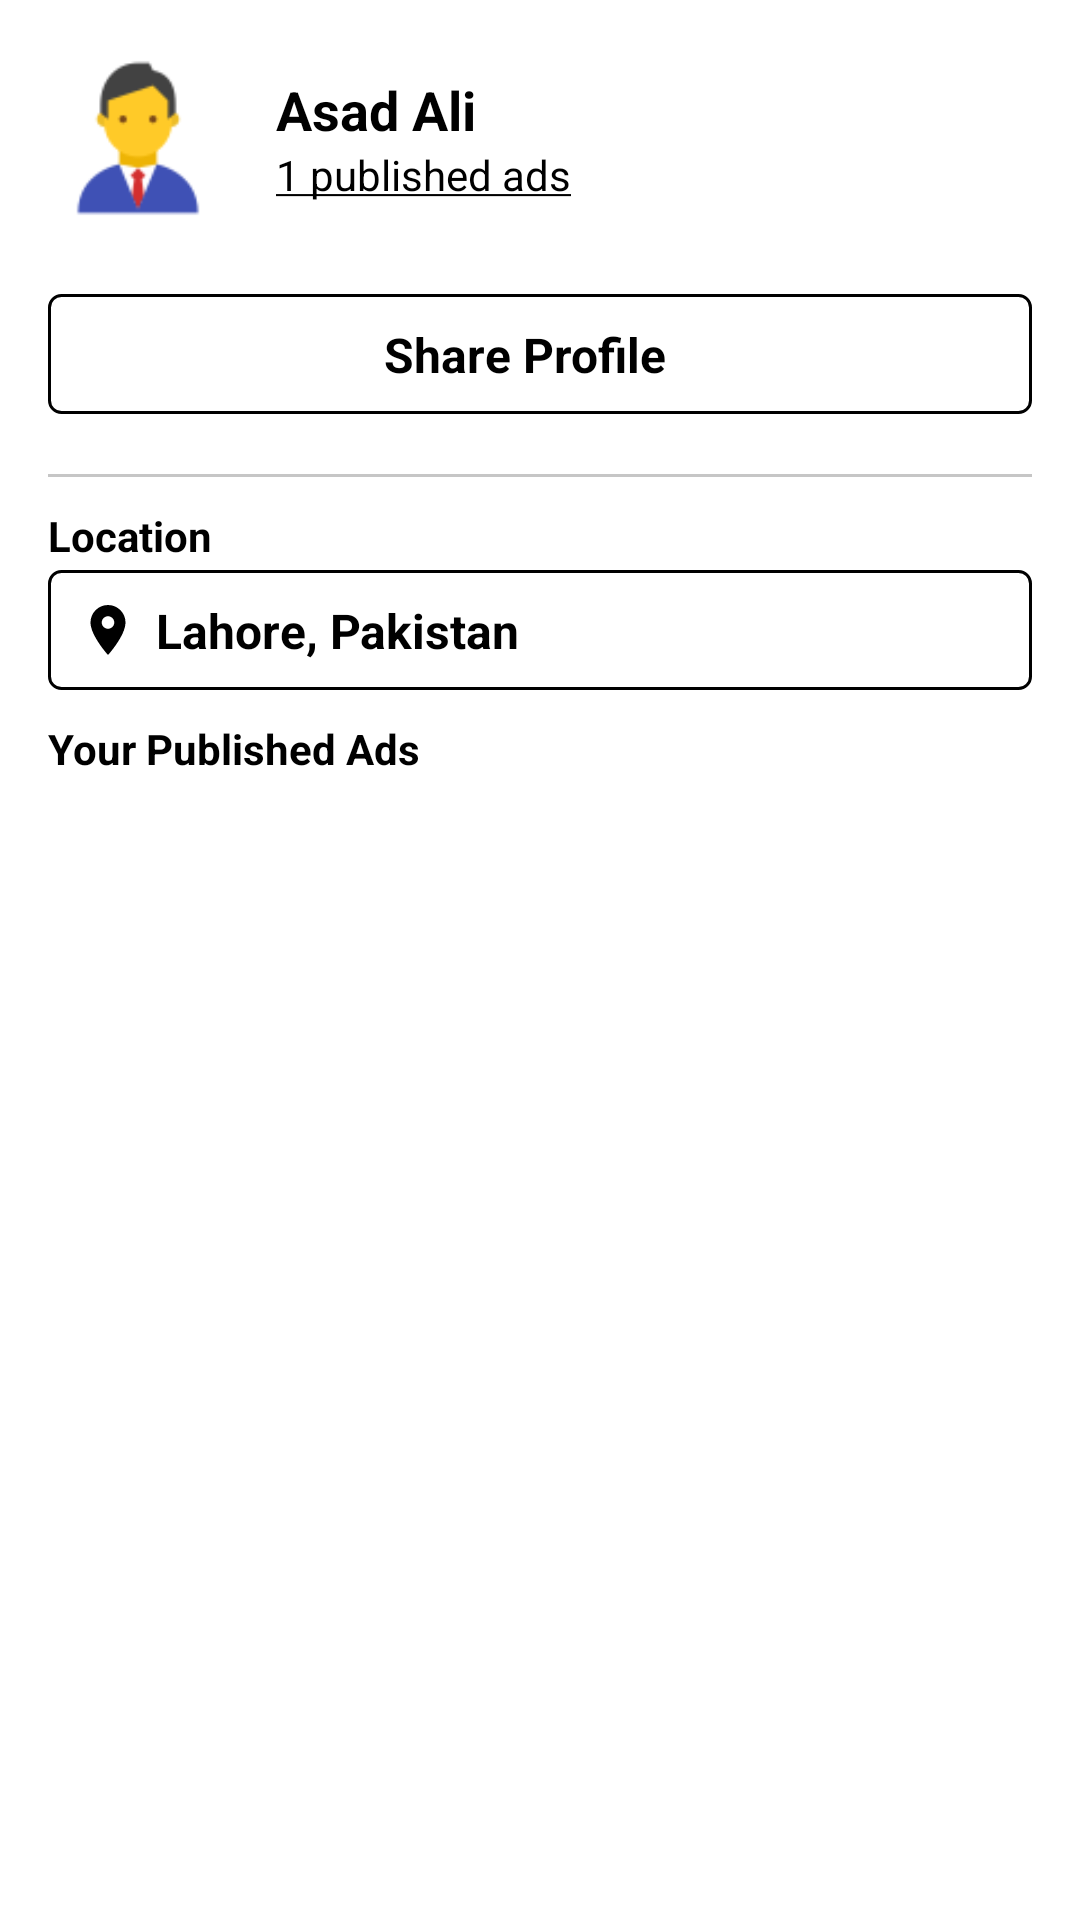

Named icons in this screenshot (1080*1920) and their centers, [x,y]:
profile: [138,138]
